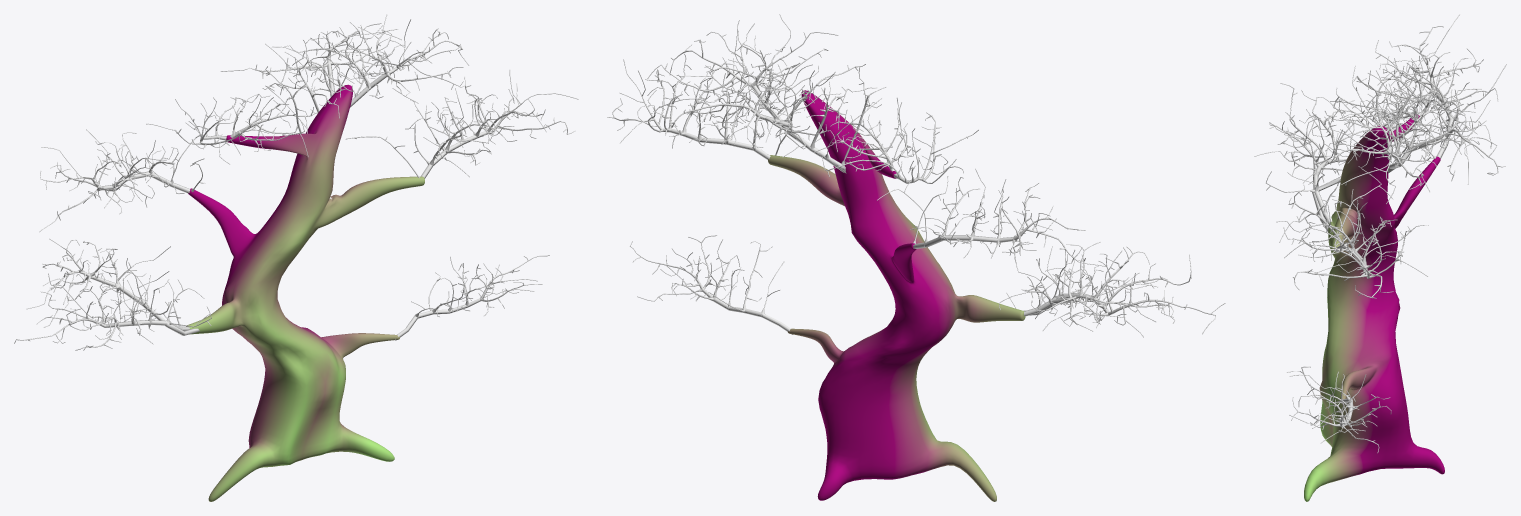
Rendered from aged-v01.glb.
3 views of the same model, side by side, from view 1: azimuth 30°, elevation 25°; view 2: azimuth 150°, elevation 25°; view 3: azimuth 270°, elevation 25° (orthographic). The views are drawn at different scales.
Parts seen in each view (by area): view 1: Continuous aged trunk and primary branches, Terminal twig hierarchy; view 2: Continuous aged trunk and primary branches, Terminal twig hierarchy; view 3: Continuous aged trunk and primary branches, Terminal twig hierarchy.
Boxes of the visible parts, bbox=[...] form: Continuous aged trunk and primary branches: bbox=[186, 84, 424, 501]; Terminal twig hierarchy: bbox=[14, 14, 578, 350]; Continuous aged trunk and primary branches: bbox=[768, 90, 1025, 501]; Terminal twig hierarchy: bbox=[607, 14, 1225, 337]; Continuous aged trunk and primary branches: bbox=[1304, 114, 1444, 501]; Terminal twig hierarchy: bbox=[1254, 14, 1506, 453].
Bounding box in the file's own units: 2.71 × 1.92 × 1.01.
